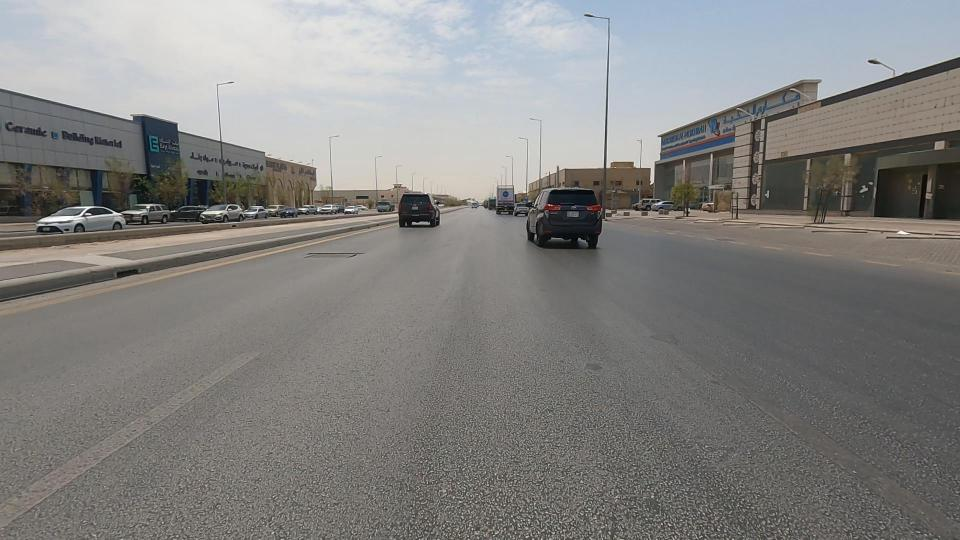GARBAGE: (873, 201, 928, 257)
